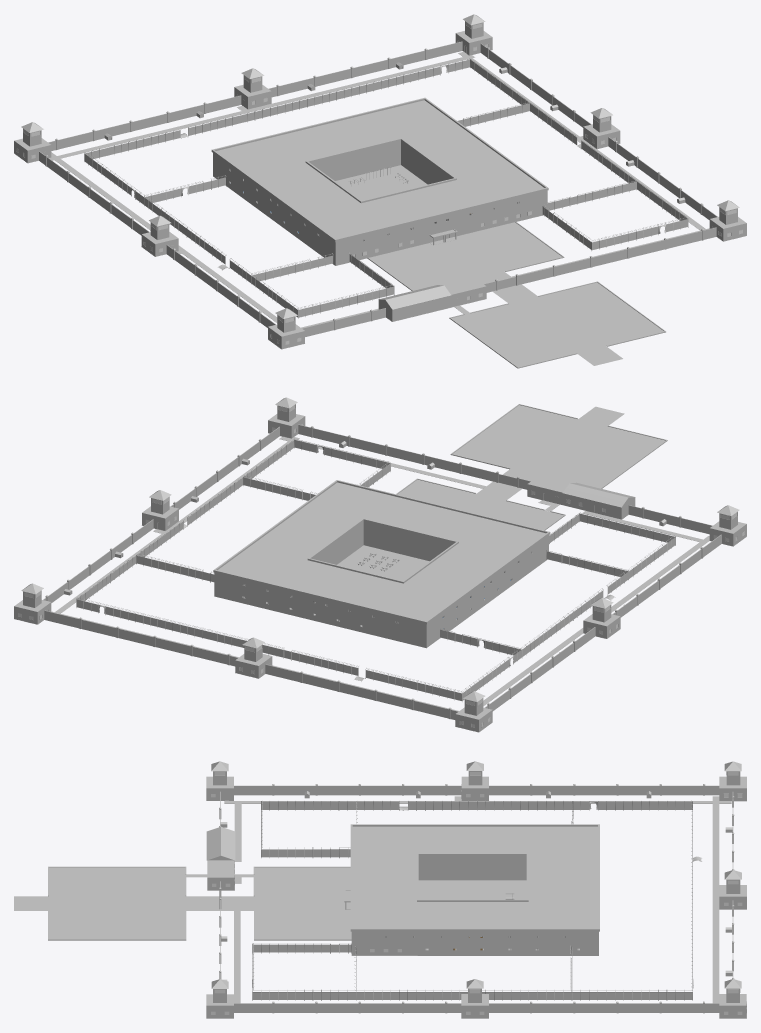
Rendered from Prison.fbx.
The picture shows the model from 3 angles, top to bottom: view 1: azimuth 30°, elevation 25°; view 2: azimuth 150°, elevation 25°; view 3: azimuth 270°, elevation 25°; orthographic projection.
Parts seen in each view (by area): view 1: Roof9.004, Fence2, Prison.039, ParkingDoroga, Prison.300, Ploschat, Tropka.011, PrisonFloor, Prison.001, Roof, Bordur; view 2: Roof9.004, Fence2, Prison.039, Prison.300, ParkingDoroga, Tropka.011, Ploschat, PrisonFloor, Prison.001, Roof, Bordur, Prison002.001 (+2 smaller); view 3: Roof9.004, ParkingDoroga, Prison.039, Fence2, Prison.300, Ploschat, Tropka.011, PrisonFloor, Roof, Bordur, Prison002.002, Prison002 (+8 smaller).
Part boxes in pixels (x1,y1,x2,y2): Roof9.004: (211,97,548,242); Fence2: (84,58,688,318); Prison.039: (39,41,717,336); ParkingDoroga: (451,282,663,366); Prison.300: (213,141,547,265); Ploschat: (369,222,561,290); Tropka.011: (49,51,709,328); PrisonFloor: (213,165,427,249); Prison.001: (378,286,486,321); Roof: (378,285,451,309); Bordur: (449,281,665,368); Roof9.004: (213,480,550,624); Fence2: (76,438,675,701); Prison.039: (43,424,721,719); Prison.300: (214,521,548,647); ParkingDoroga: (453,405,665,488); Tropka.011: (51,436,709,711); Ploschat: (397,479,563,529); PrisonFloor: (214,545,527,648); Prison.001: (527,484,635,519); Roof: (563,482,635,507); Bordur: (450,404,667,488); Prison002.001: (583,598,620,626); Roof9.004: (350,824,599,931); ParkingDoroga: (14,867,219,939); Prison.039: (219,784,734,1013); Fence2: (252,800,701,1000); Prison.300: (351,856,598,955); Ploschat: (220,867,351,939); Tropka.011: (224,796,731,1003); PrisonFloor: (418,880,598,955); Roof: (206,827,235,860); Bordur: (48,866,207,940); Prison002.002: (719,761,746,788); Prison002: (206,761,233,788).
Size of the model in its own units: 15796 by 1097 by 21340.
